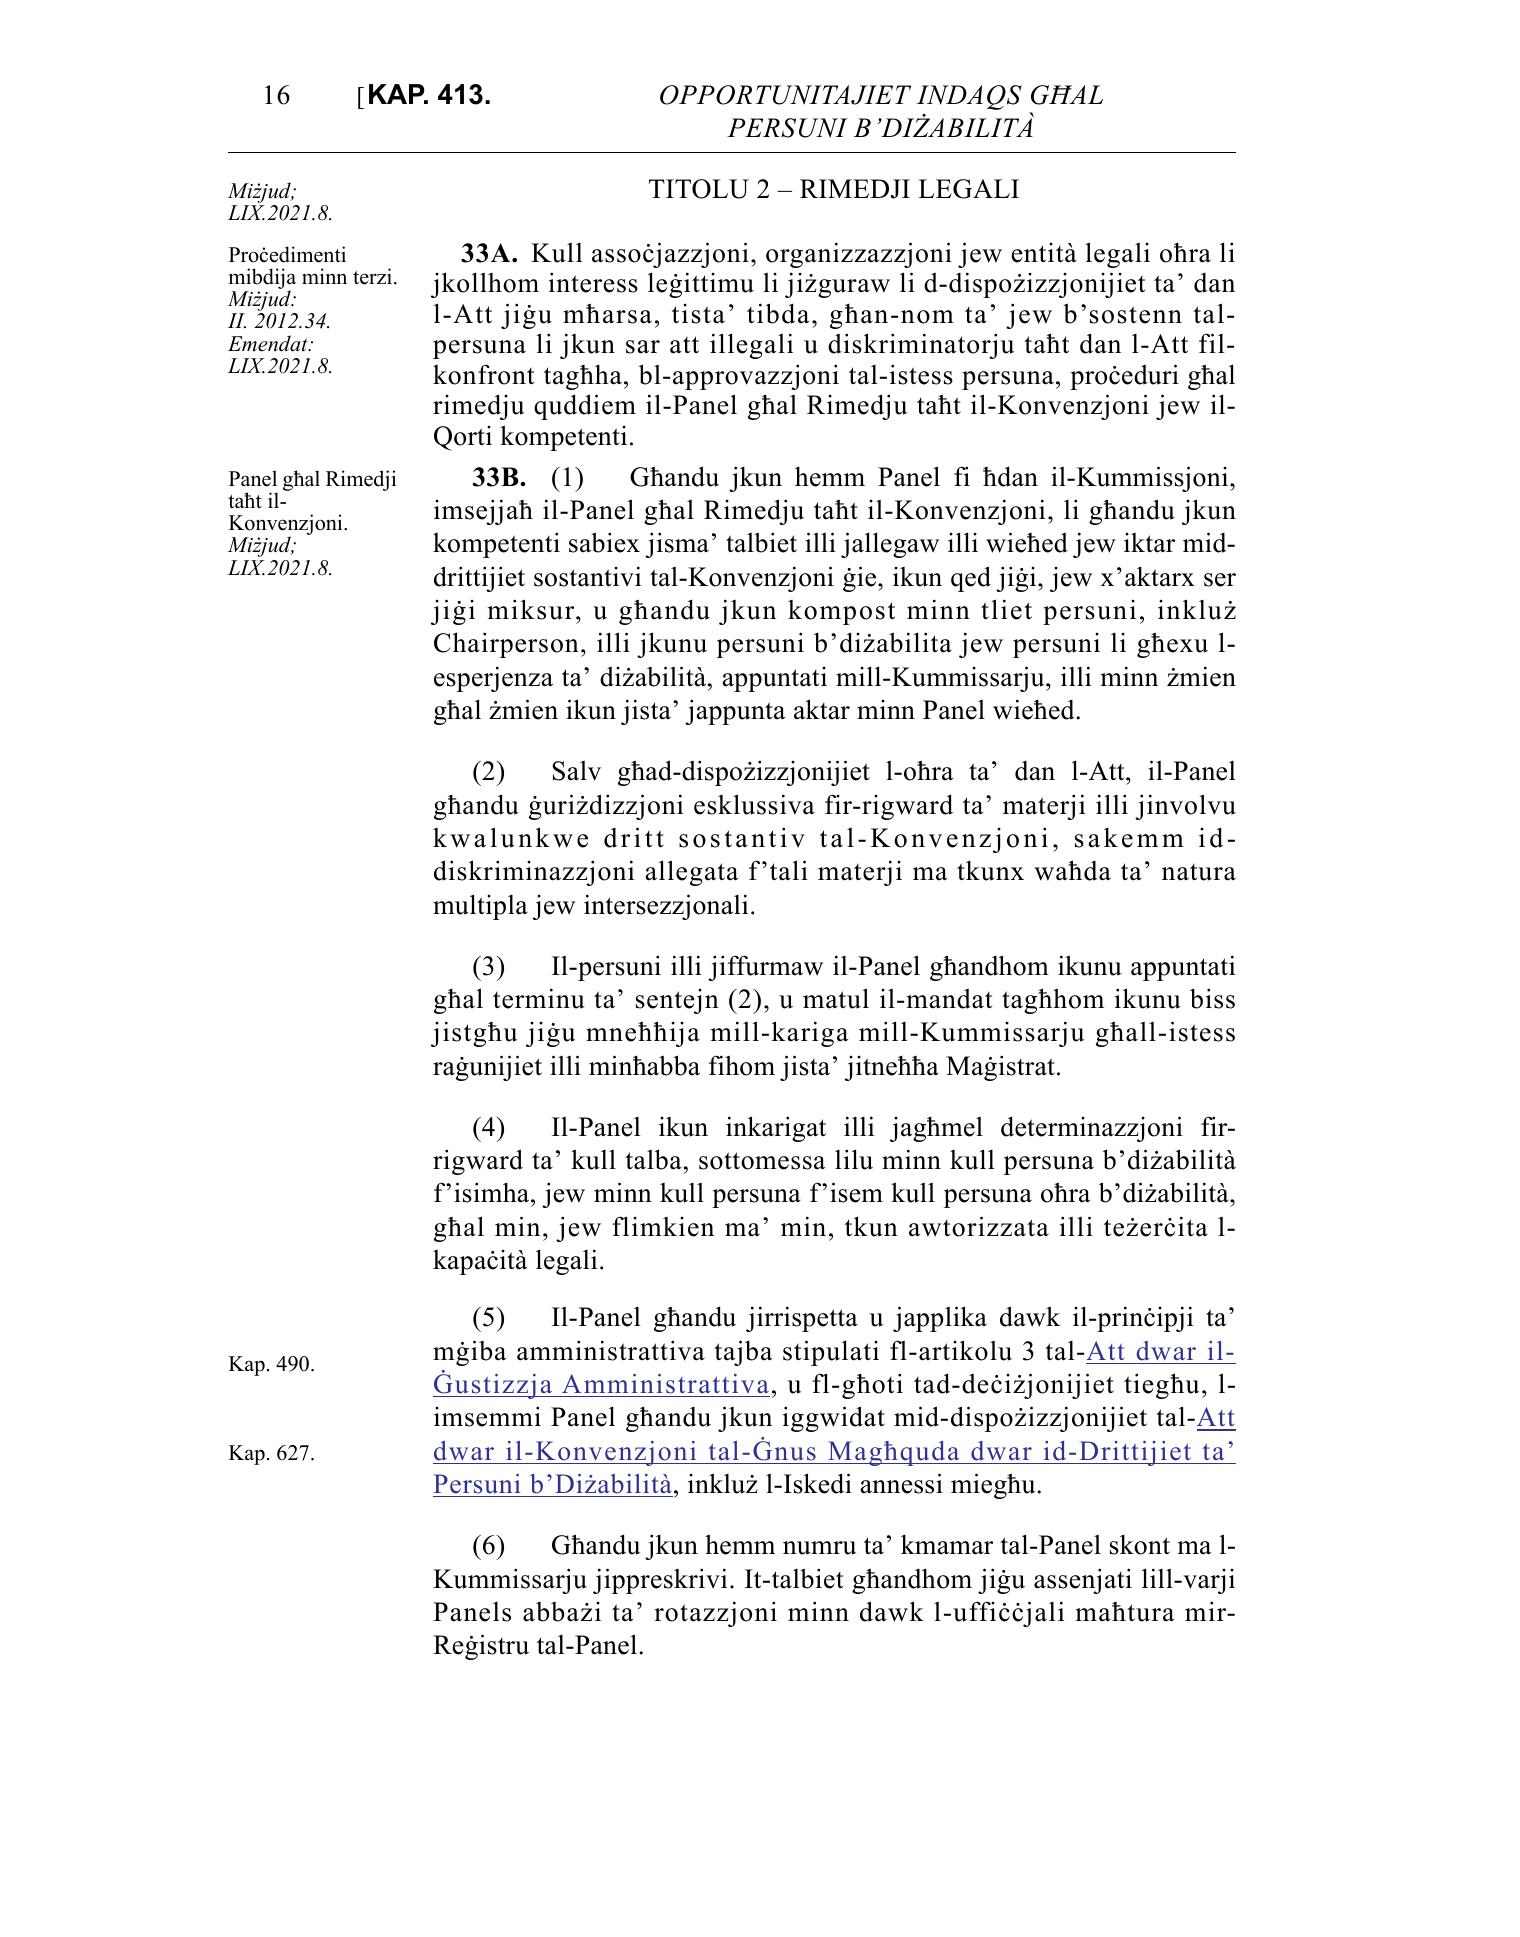text: (420, 167, 1265, 1670)
